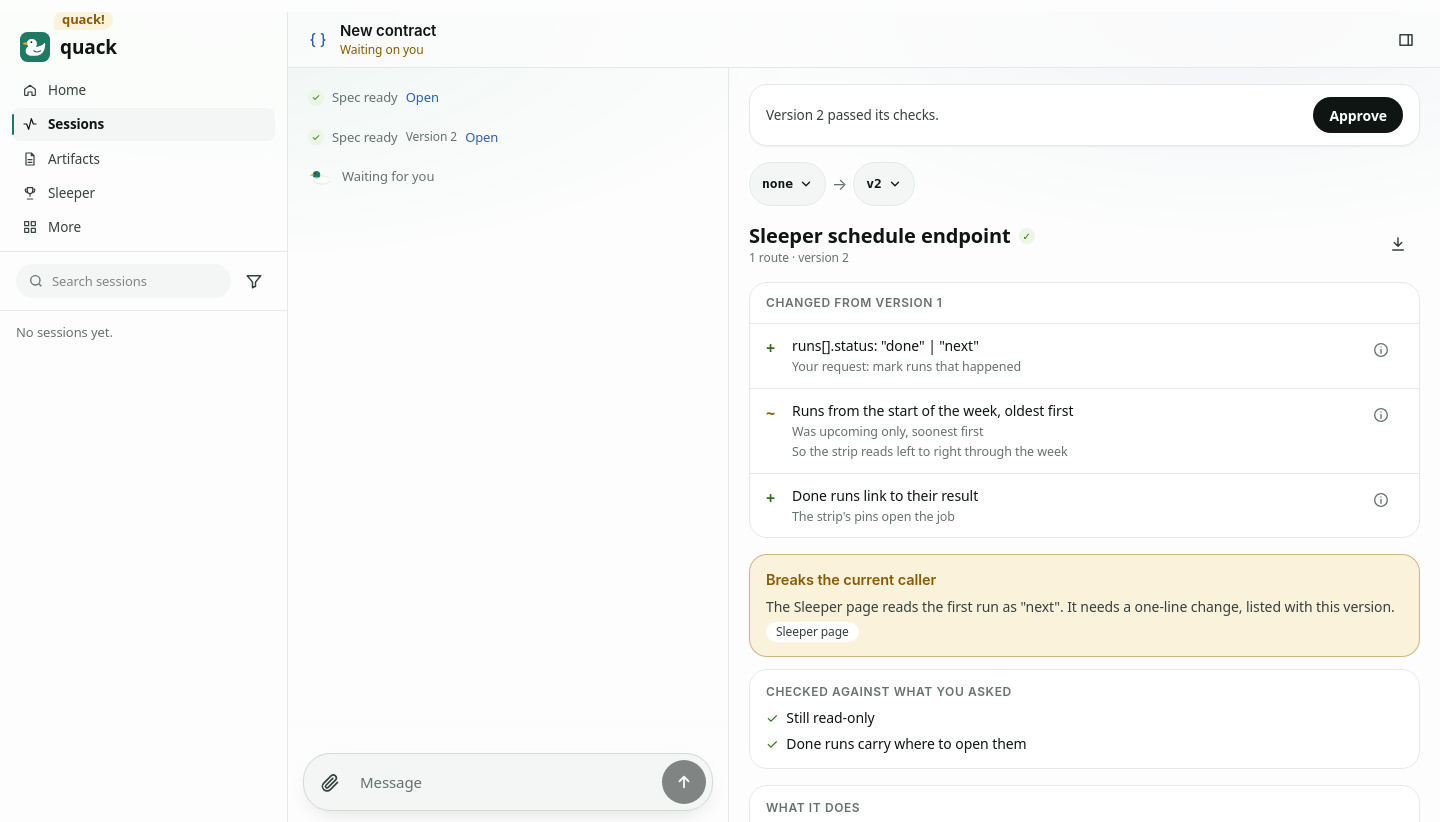
Test case: an approval another tab already decided says so instead of failing silently
Click the button "Approve": (1358, 115) [1314,97,1403,133]
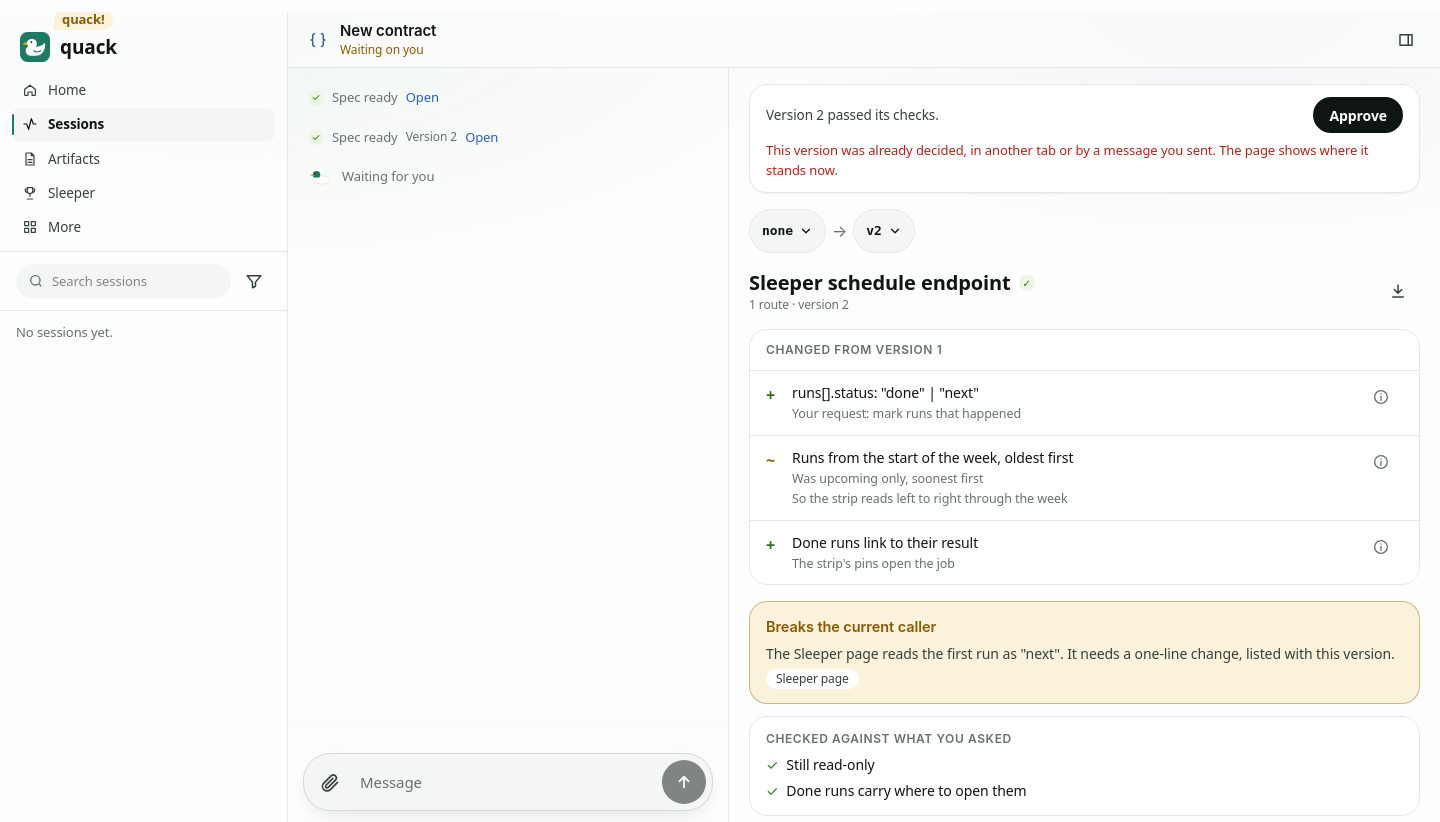
Expected: the 3rd message shows "already decided", [766,141,1368,178]
